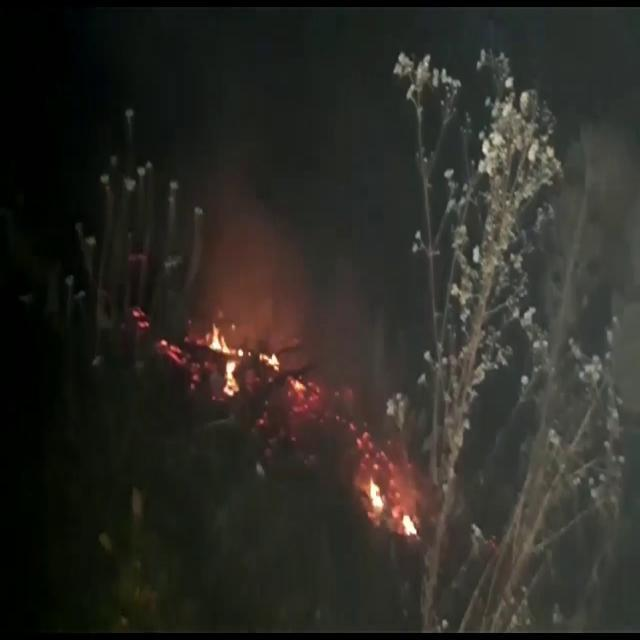Fire: (364, 466, 420, 540), (206, 316, 242, 392)
Smoke: (170, 4, 420, 372)
